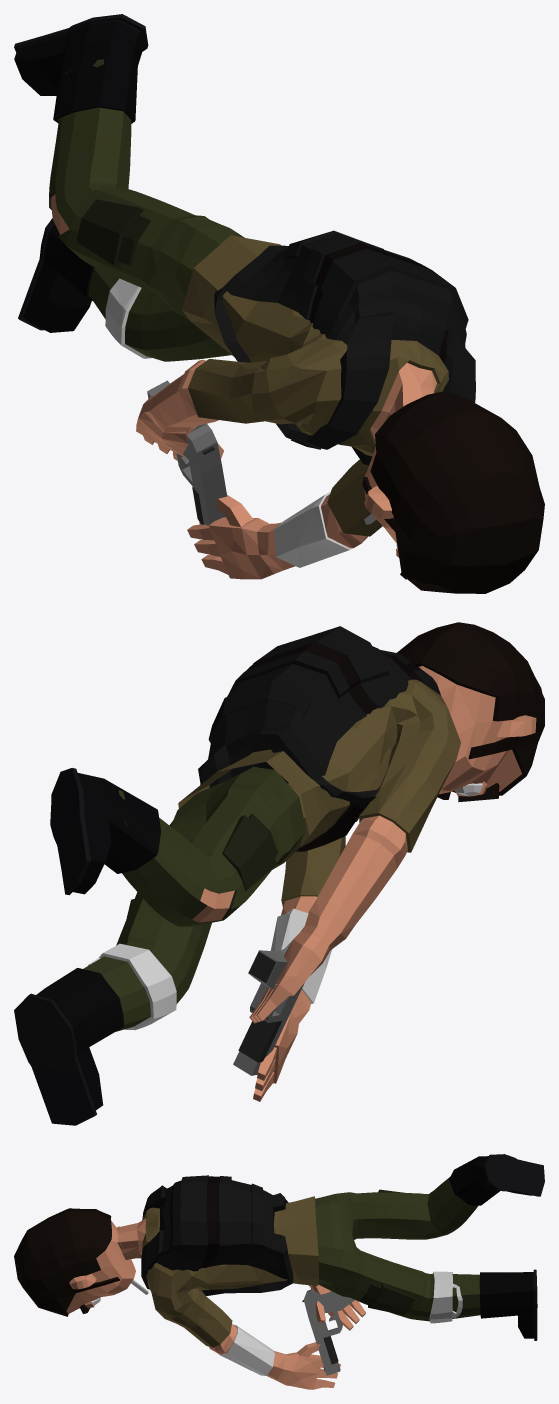
File: frame_0036.obj
3 renders of one model, top to bottom at view 1: azimuth 30°, elevation 25°; view 2: azimuth 150°, elevation 25°; view 3: azimuth 270°, elevation 25°, orthographic. The views are drawn at different scales.
Visible parts, largest first — view 1: Body, Gun; view 2: Body, Gun; view 3: Body, Gun.
Part boxes in pixels (<box>): Body: <box>14,14,544,593</box>; Gun: <box>147,380,227,525</box>; Body: <box>14,622,544,1125</box>; Gun: <box>233,940,304,1075</box>; Body: <box>14,1154,544,1389</box>; Gun: <box>302,1289,354,1375</box>.
Bounding box in the file's own units: 1.14 × 2.16 × 4.18.
